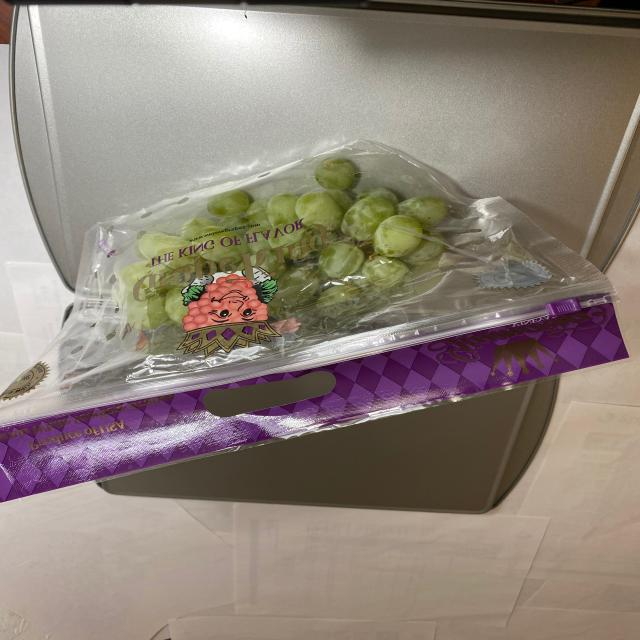grapes: (100, 167, 486, 323)
